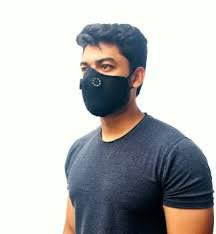mask: (70, 19, 151, 121)
